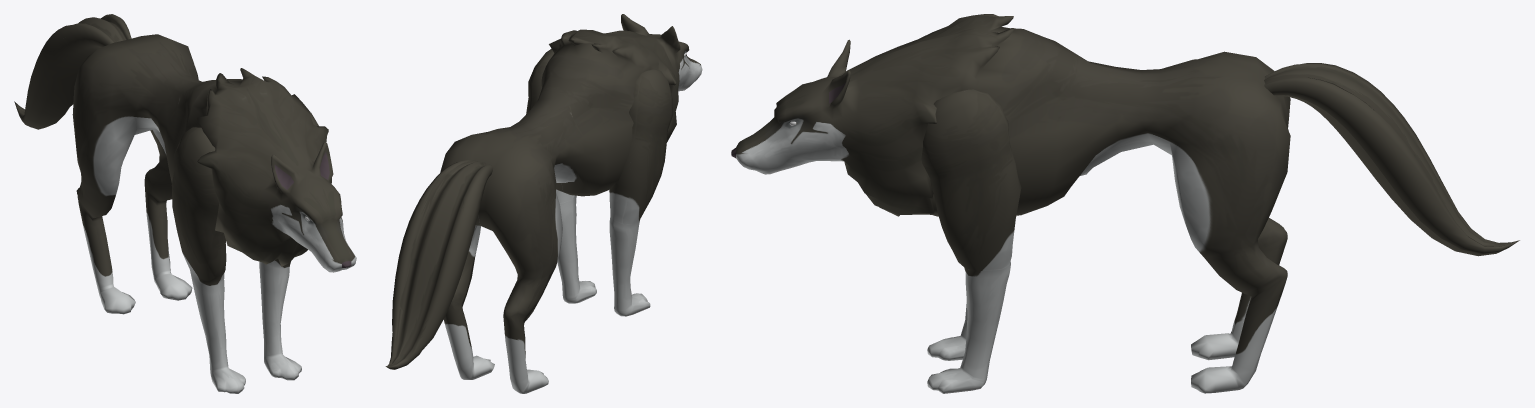
Rendered from wolf.fbx.
3 views of the same model, side by side, from view 1: azimuth 30°, elevation 25°; view 2: azimuth 150°, elevation 25°; view 3: azimuth 270°, elevation 25° (orthographic). The views are drawn at different scales.
Parts seen in each view (by area): view 1: body_low, arm_low, tail_low; view 2: body_low, tail_low, arm_low; view 3: body_low, arm_low, tail_low.
Part boxes in pixels (<box>): body_low: <box>72,34,356,314</box>; arm_low: <box>171,112,318,393</box>; tail_low: <box>14,14,131,129</box>; body_low: <box>440,14,702,393</box>; tail_low: <box>385,160,493,369</box>; arm_low: <box>526,49,672,316</box>; body_low: <box>731,14,1290,393</box>; arm_low: <box>921,89,1021,393</box>; tail_low: <box>1264,63,1519,256</box>.
Size of the model in its own units: 121 by 250 by 512.
